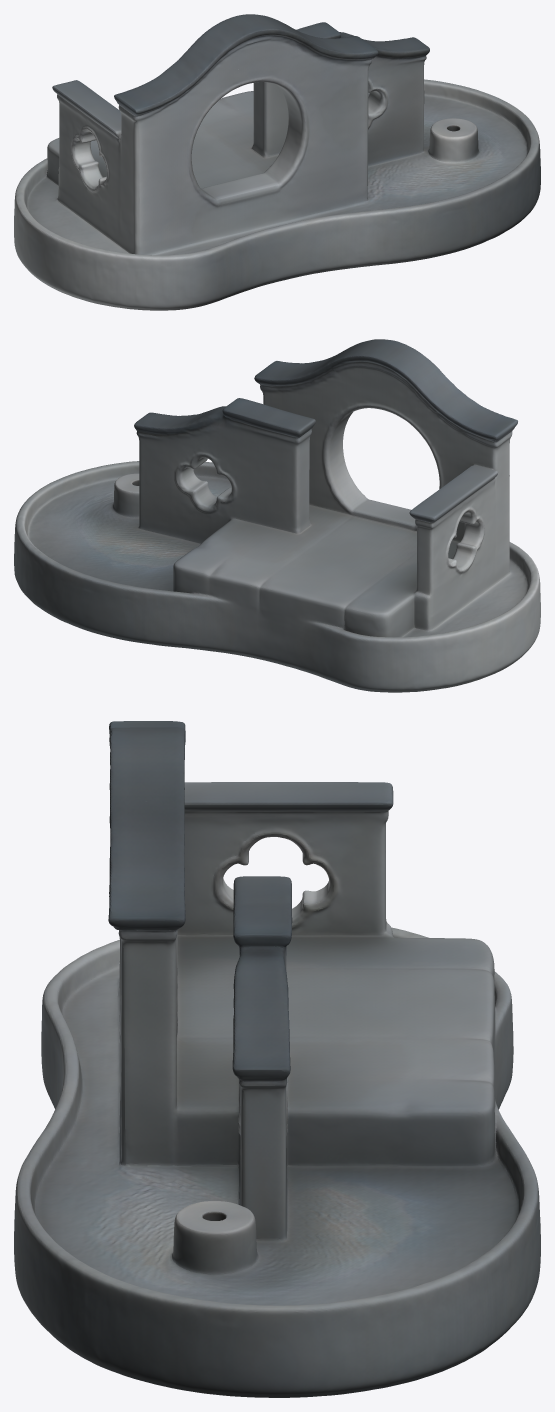
Rendered from 7b161c25-5031-4160-8346-5213ffa8b853-base_basic_pbr.glb.
3 renders of one model, top to bottom at view 1: azimuth 30°, elevation 25°; view 2: azimuth 150°, elevation 25°; view 3: azimuth 270°, elevation 25°, orthographic. The views are drawn at different scales.
Visible parts, largest first — view 1: model; view 2: model; view 3: model.
Part boxes in pixels (x1=…): model: x1=14, y1=14, x2=540, y2=310; model: x1=14, y1=339, x2=540, y2=692; model: x1=14, y1=721, x2=540, y2=1397.
Bounding box in the file's own units: 1.89 × 0.9114 × 1.06.
Materials: 1 (1 with a texture image).
